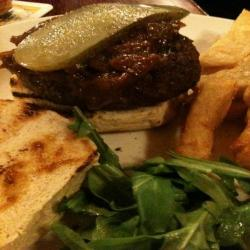burger: (6, 6, 204, 143), (1, 96, 96, 250)
fries: (182, 17, 250, 164)
salad: (54, 146, 250, 248)
